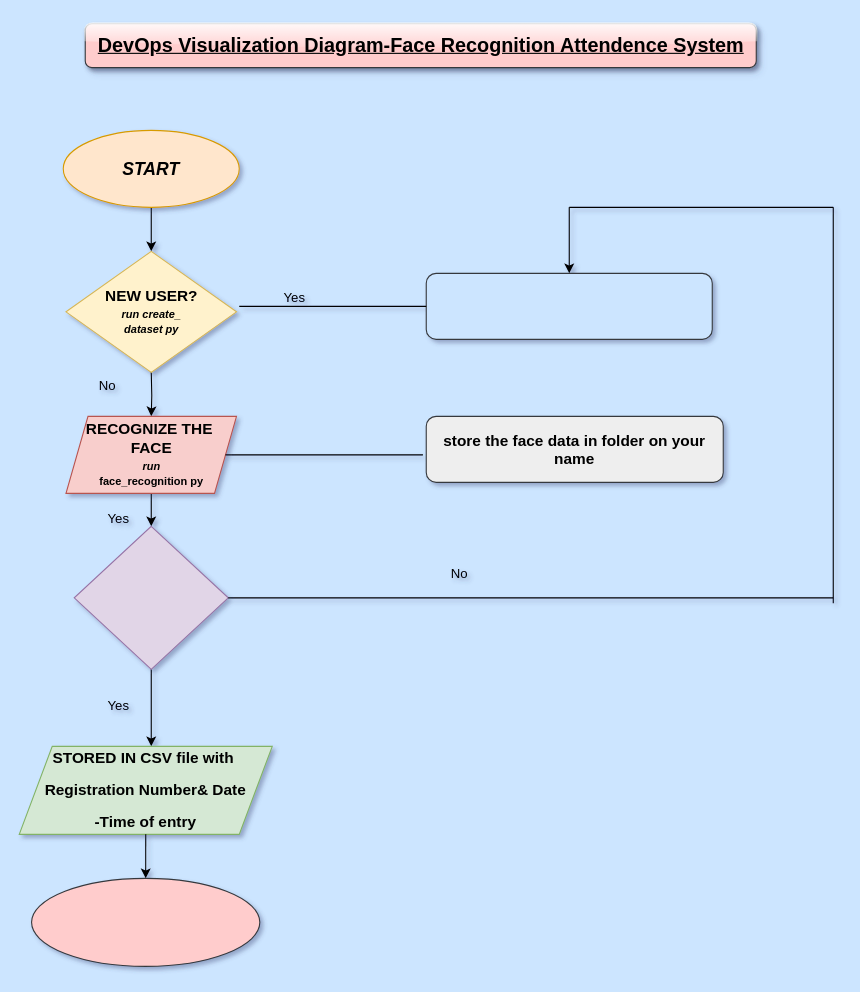
Some shapes in this 860 by 992 pixel diagram are drawn without their labels. The centre of each missing label's shape, as x and y in pixels:
END: the point at 145,921
FACE RECOGNIZED: the point at 150,597
Give your photograph: the point at 568,305
